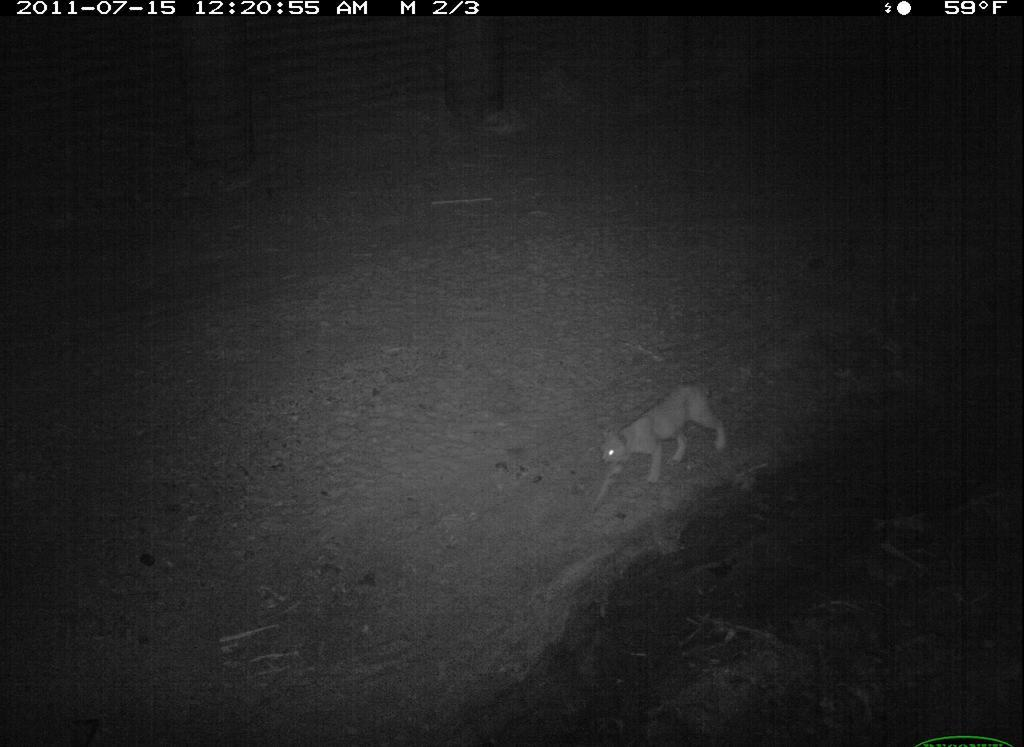bobcat: (584, 361, 747, 516)
